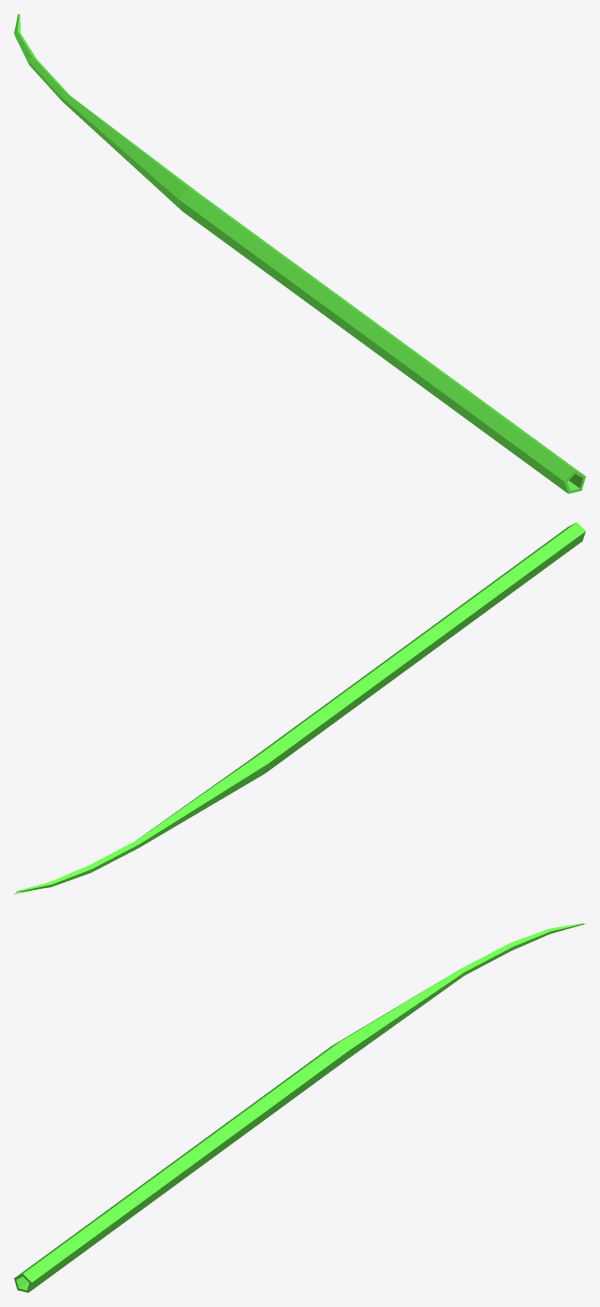
Rendered from chives01.gltf.
The picture shows the model from 3 angles, top to bottom: view 1: azimuth 30°, elevation 25°; view 2: azimuth 150°, elevation 25°; view 3: azimuth 330°, elevation 25°; orthographic projection. The views are drawn at different scales.
Parts seen in each view (by area): view 1: Cylinder; view 2: Cylinder; view 3: Cylinder.
Boxes of the visible parts, box(x1,y1,x2,y2) form: Cylinder: box(14, 14, 585, 493); Cylinder: box(14, 522, 585, 894); Cylinder: box(14, 923, 584, 1292).
Bounding box in the file's own units: 0.0196 × 0.00544 × 0.2835.
1 material, 1 textured.
